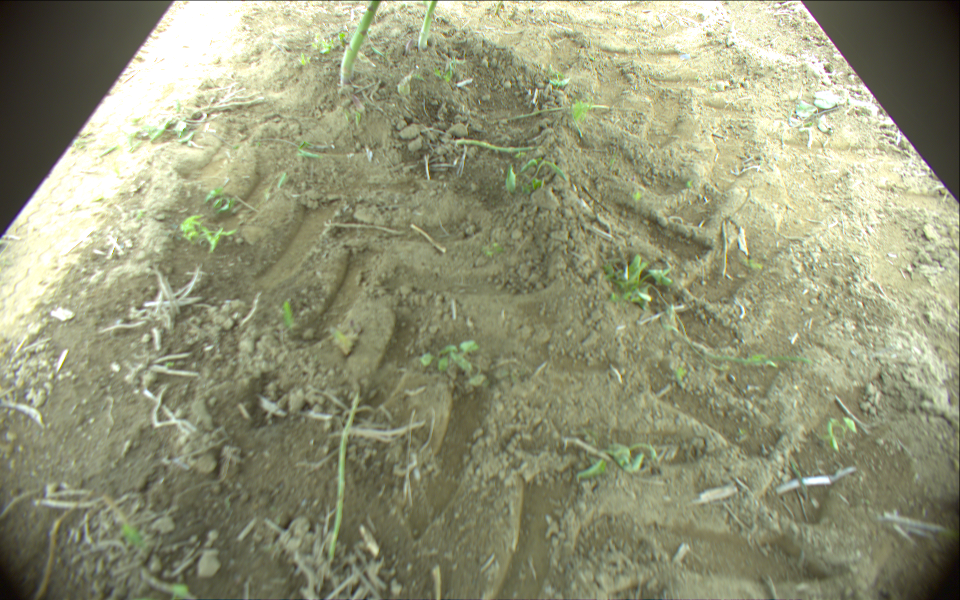aspa: (327, 392, 360, 563), (339, 1, 384, 85), (455, 137, 541, 152), (419, 1, 438, 50)
